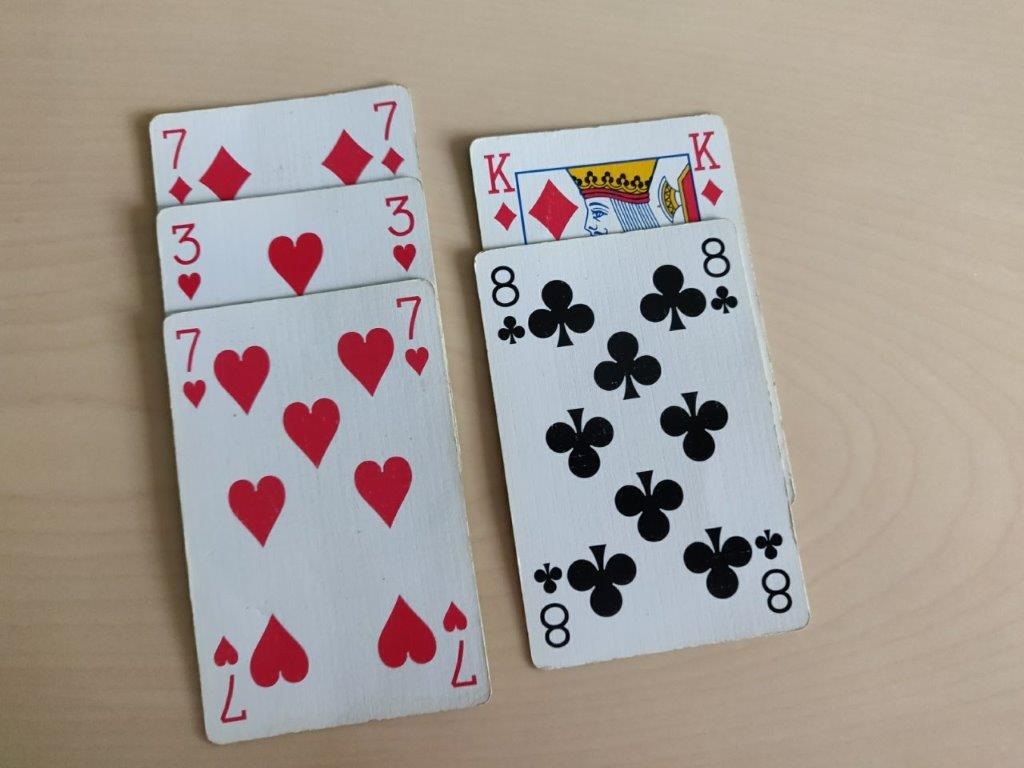3H: (162, 214, 209, 304), (378, 189, 425, 279)
7D: (155, 119, 196, 205), (371, 93, 412, 179)
7H: (164, 319, 214, 412), (386, 288, 436, 381)
8C: (481, 255, 529, 351), (698, 232, 746, 328)
KD: (478, 137, 520, 234), (684, 119, 726, 216)
